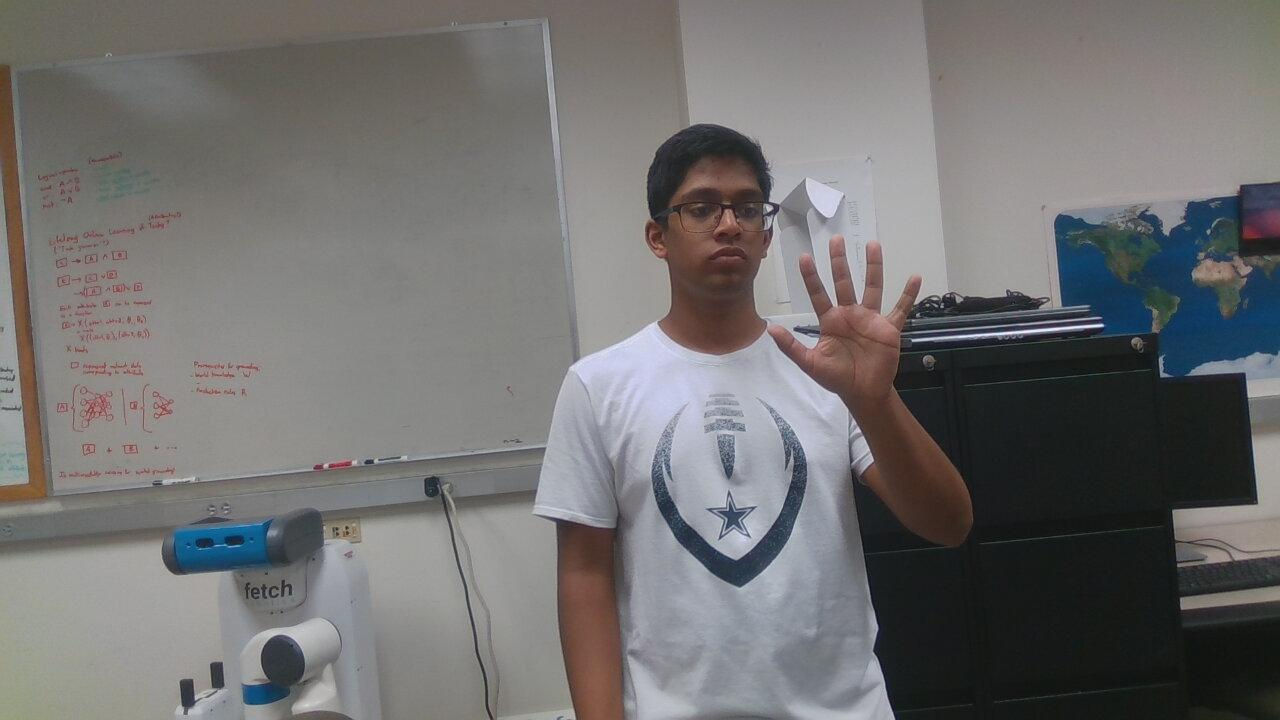hands: (771, 232, 944, 409)
